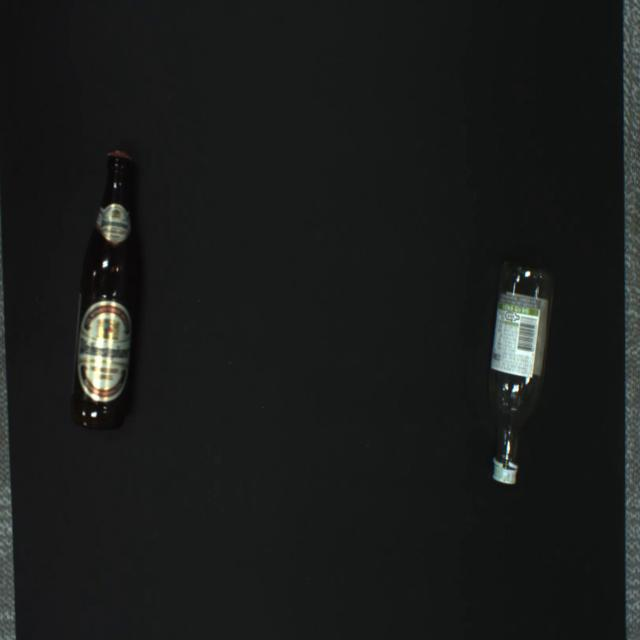beer-bottle: (72, 151, 140, 431)
soju-bottle: (488, 263, 554, 484)
